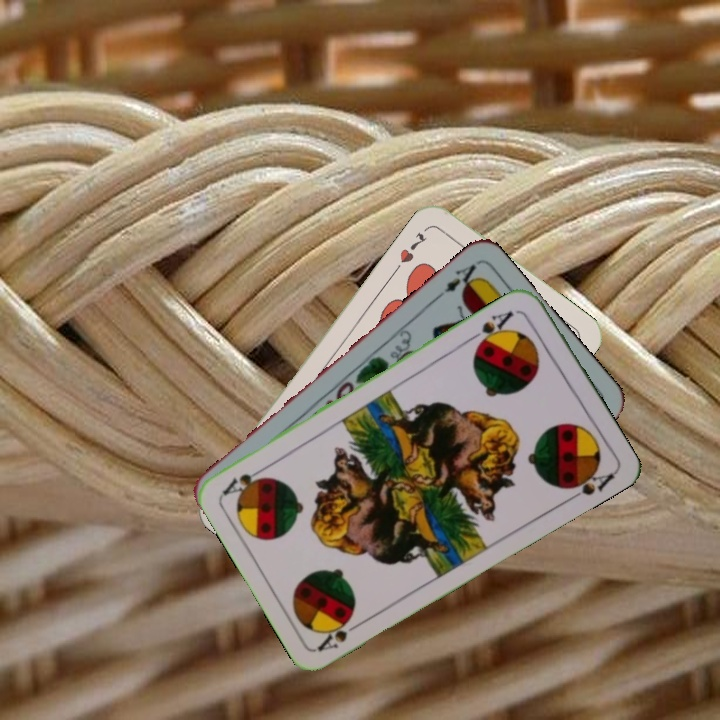EA: (431, 260, 483, 302)
H7: (395, 228, 430, 266)
SA: (313, 610, 367, 654), (466, 306, 516, 350)
